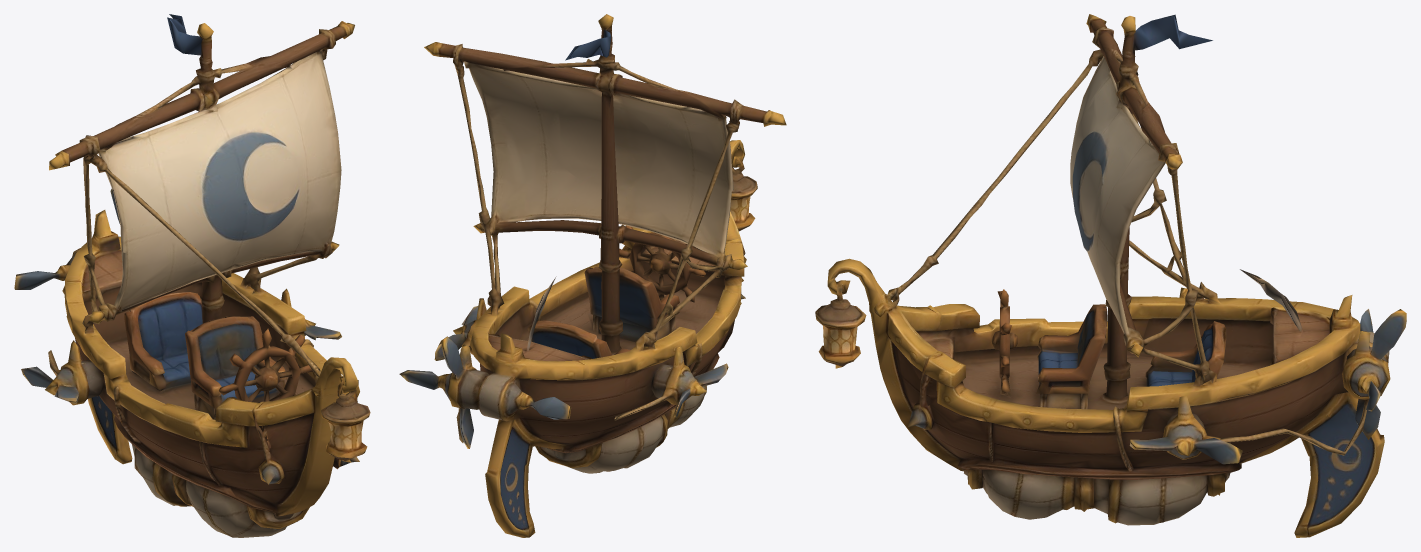
The model's file is skyboat.glb.
3 renders of one model, left to right at view 1: azimuth 30°, elevation 25°; view 2: azimuth 150°, elevation 25°; view 3: azimuth 270°, elevation 25°, orthographic. The views are drawn at different scales.
Visible parts, largest first — view 1: tripo_node_37de86d1-9b17-4db6-b79b-551fc54de384; view 2: tripo_node_37de86d1-9b17-4db6-b79b-551fc54de384; view 3: tripo_node_37de86d1-9b17-4db6-b79b-551fc54de384.
Boxes of the visible parts, x1,y1,x2,y2 form: tripo_node_37de86d1-9b17-4db6-b79b-551fc54de384: (14,14,370,537); tripo_node_37de86d1-9b17-4db6-b79b-551fc54de384: (399,14,786,537); tripo_node_37de86d1-9b17-4db6-b79b-551fc54de384: (815,14,1406,537).
Size of the model in its own units: 3.18 by 4.35 by 4.5.
1 material, 1 textured.
